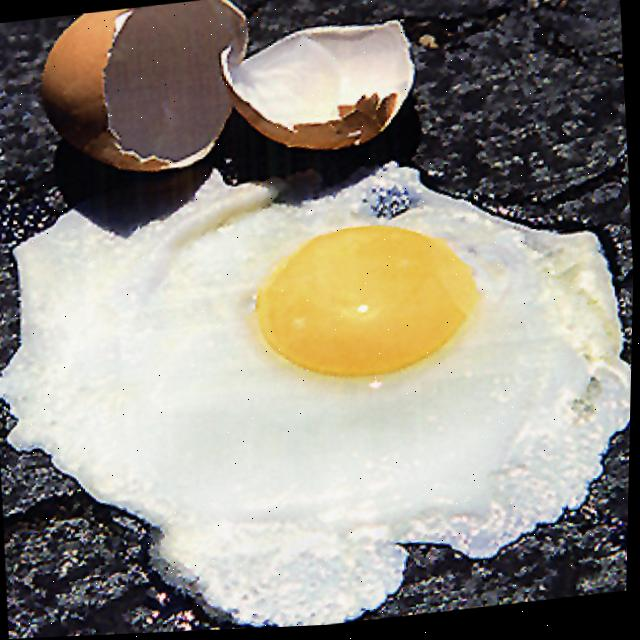鸡蛋料理: (0, 126, 637, 640)
